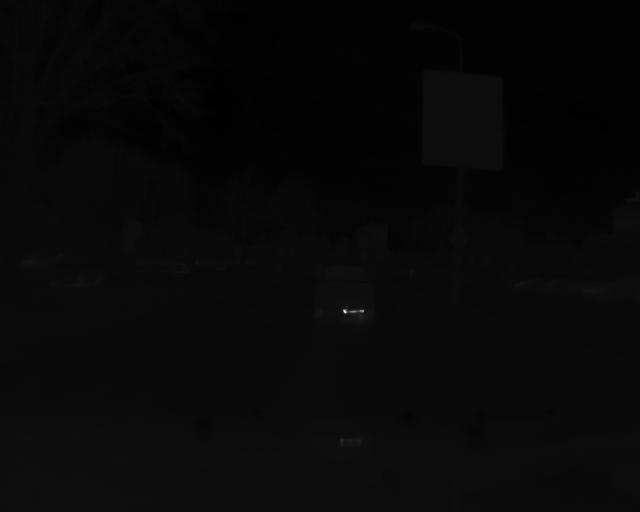car: (310, 262, 376, 324)
